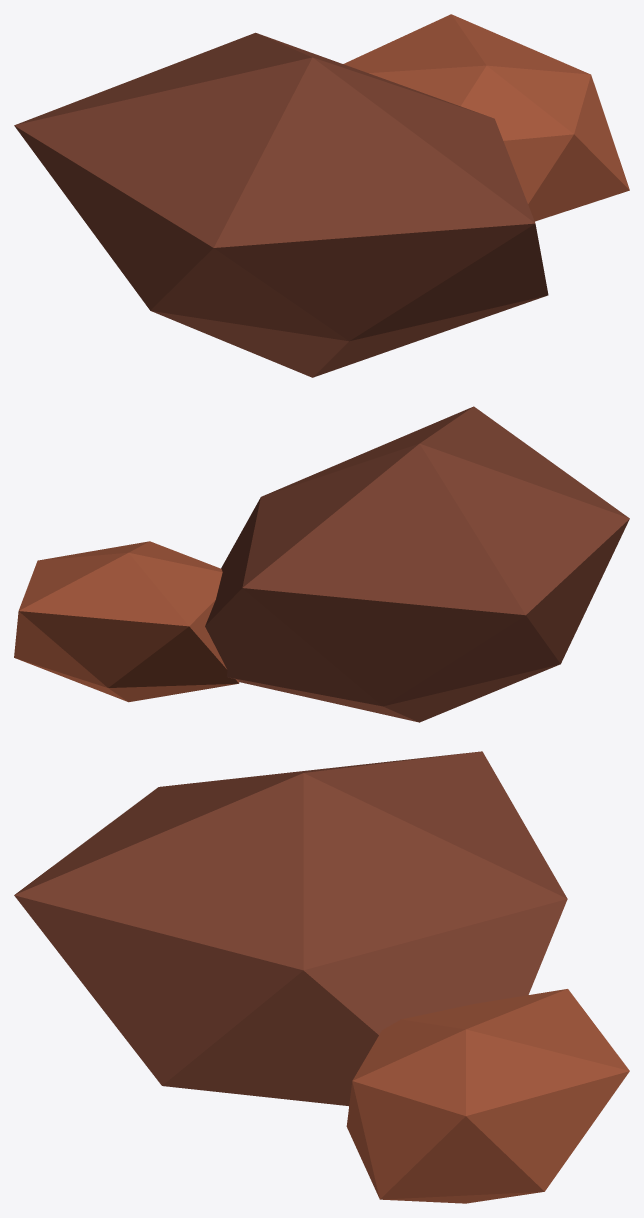
File: rocks.glb
3 renders of one model, top to bottom at view 1: azimuth 30°, elevation 25°; view 2: azimuth 150°, elevation 25°; view 3: azimuth 270°, elevation 25°, orthographic. The views are drawn at different scales.
Visible parts, largest first — view 1: rocks; view 2: rocks; view 3: rocks.
Part boxes in pixels (bbox=[...]): rocks: bbox=[14, 14, 629, 377]; rocks: bbox=[14, 406, 629, 722]; rocks: bbox=[14, 751, 629, 1203].
Bounding box in the file's own units: 1.23 × 0.6627 × 1.14.
